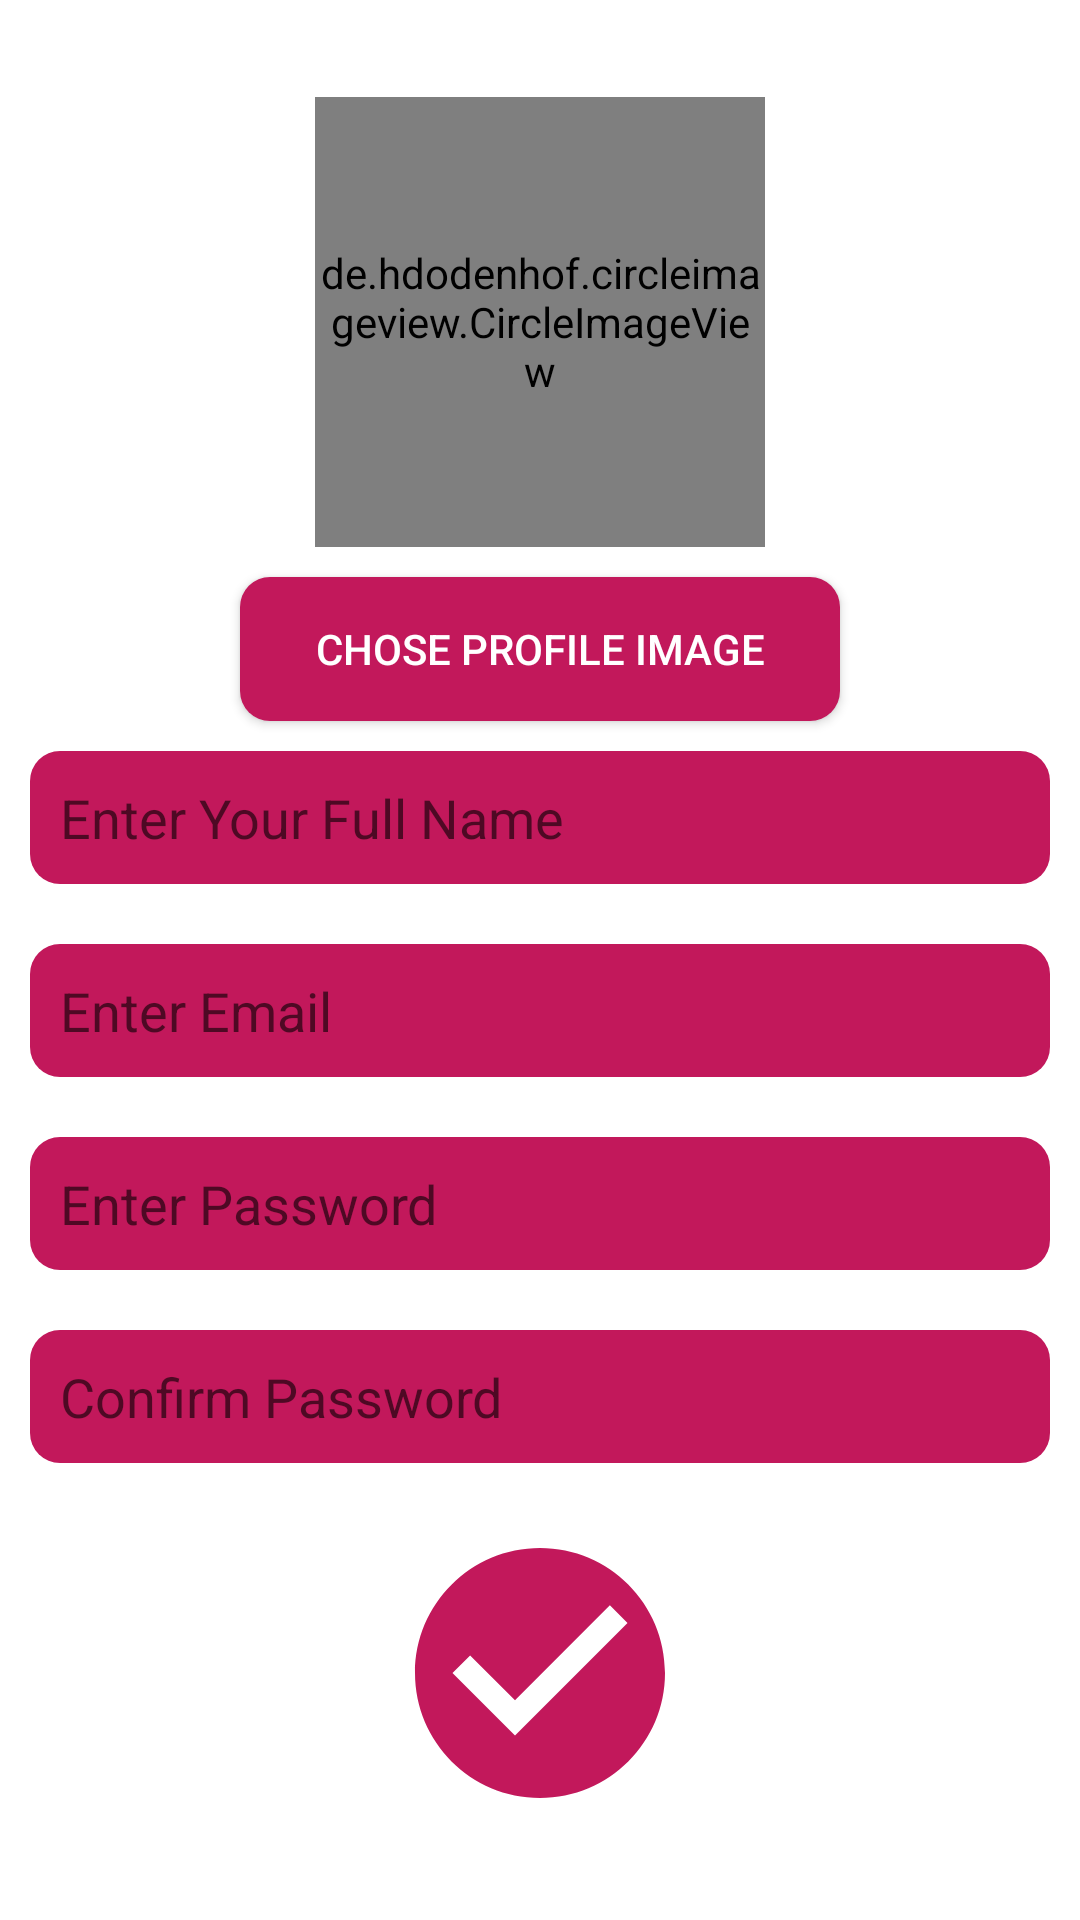

Named icons in this screenshot (1080 × 1920) and their bounding boxes, bbox(x1, y1, x2, y2):
right: bbox(415, 1548, 665, 1798)
